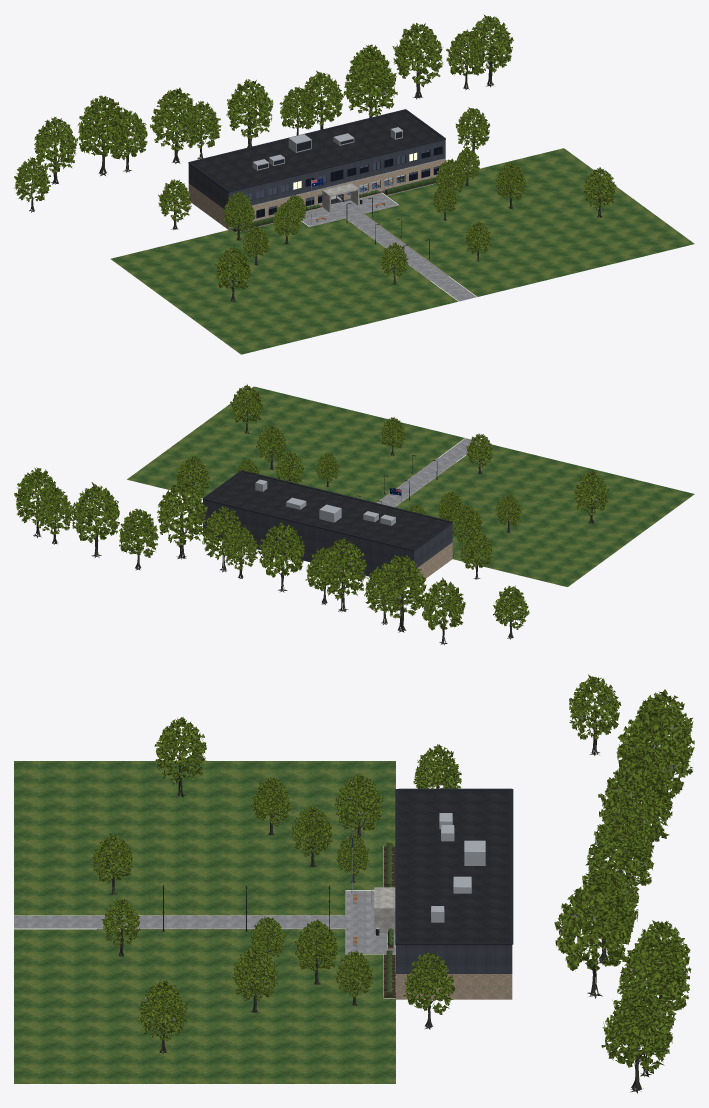
The model's file is school.glb.
3 renders of one model, top to bottom at view 1: azimuth 30°, elevation 25°; view 2: azimuth 150°, elevation 25°; view 3: azimuth 270°, elevation 25°, orthographic. The views are drawn at different scales.
Visible parts, largest first — view 1: ext_far, ext_near, treefar_09, treefar_02, treefar_11, treefar_04, treefar_06, treefar_13, treefar_01, treefar_08, treefar_12, tree_12 (+16 smaller); view 2: ext_far, treefar_09, treefar_02, treefar_11, treefar_04, treefar_06, treefar_01, treefar_13, ext_near, treefar_10, treefar_08, treefar_12 (+16 smaller); view 3: ext_far, ext_near, treefar_09, treefar_13, treefar_11, treefar_06, treefar_02, treefar_04, tree_12, treefar_00, tree_09, tree_13 (+17 smaller).
Part boxes in pixels (x1,y1,x2,y2): ext_far: [110, 109, 694, 354]; ext_near: [291, 147, 448, 280]; treefar_09: [343, 49, 397, 117]; treefar_02: [77, 95, 129, 175]; treefar_11: [392, 23, 443, 99]; treefar_04: [150, 87, 202, 163]; treefar_06: [226, 79, 273, 147]; treefar_13: [466, 14, 513, 87]; treefar_01: [34, 116, 77, 184]; treefar_08: [300, 70, 343, 129]; treefar_12: [446, 29, 485, 90]; tree_12: [214, 246, 251, 302]; ext_far: [127, 386, 694, 586]; treefar_09: [157, 481, 207, 559]; treefar_02: [375, 555, 426, 632]; treefar_11: [71, 482, 119, 557]; treefar_04: [319, 537, 366, 612]; treefar_06: [258, 520, 304, 592]; treefar_01: [421, 577, 465, 645]; treefar_13: [14, 467, 61, 537]; ext_near: [278, 455, 455, 508]; treefar_10: [119, 508, 158, 570]; treefar_08: [202, 505, 244, 572]; treefar_12: [35, 487, 73, 544]; ext_far: [14, 761, 513, 1083]; ext_near: [97, 828, 398, 954]; treefar_09: [554, 876, 633, 998]; treefar_13: [601, 986, 672, 1093]; treefar_11: [617, 933, 689, 1029]; treefar_06: [585, 811, 654, 896]; treefar_02: [616, 704, 694, 819]; treefar_04: [598, 754, 672, 859]; tree_12: [154, 717, 206, 797]; treefar_00: [569, 674, 621, 755]; tree_09: [403, 951, 454, 1029]; tree_13: [137, 979, 188, 1054].
Size of what is drawn, in the model's own units: 103 by 15.23 by 81.99.
76 materials, 29 textured.
